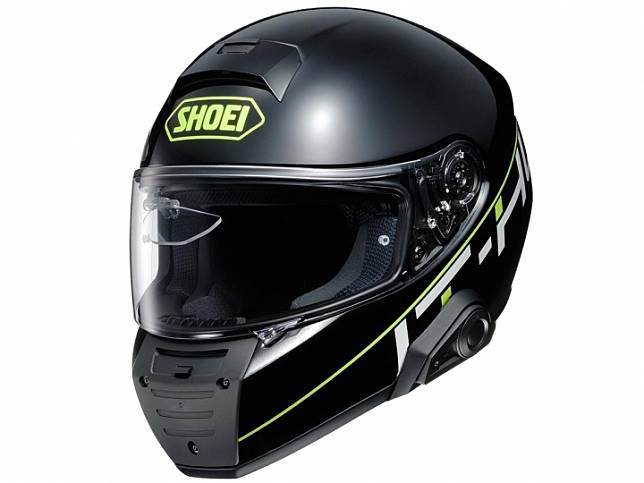helmet: (118, 43, 523, 398)
